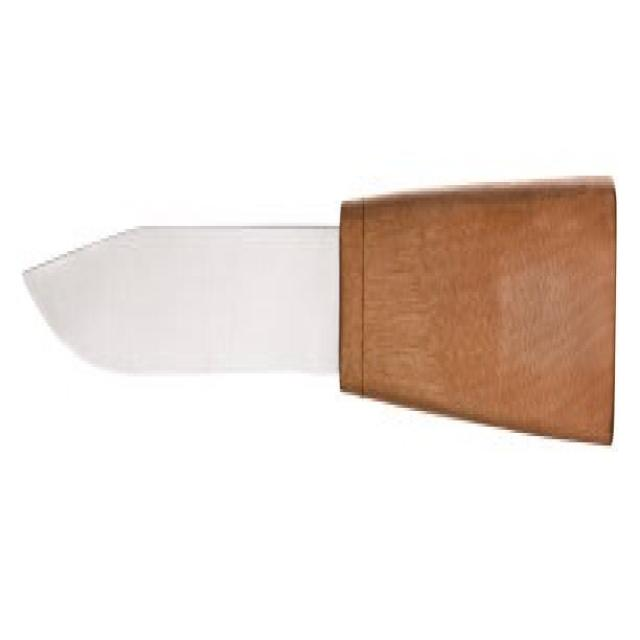knife: (19, 184, 619, 463)
